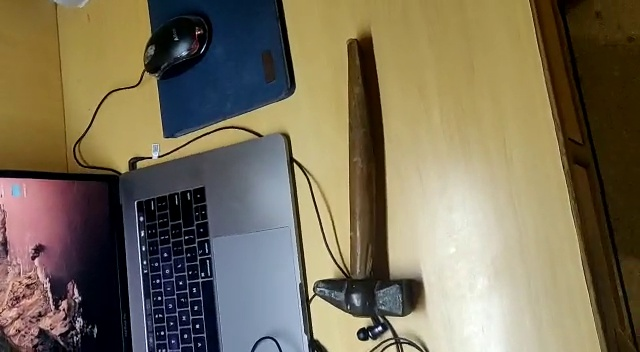hammer: (313, 37, 412, 319)
